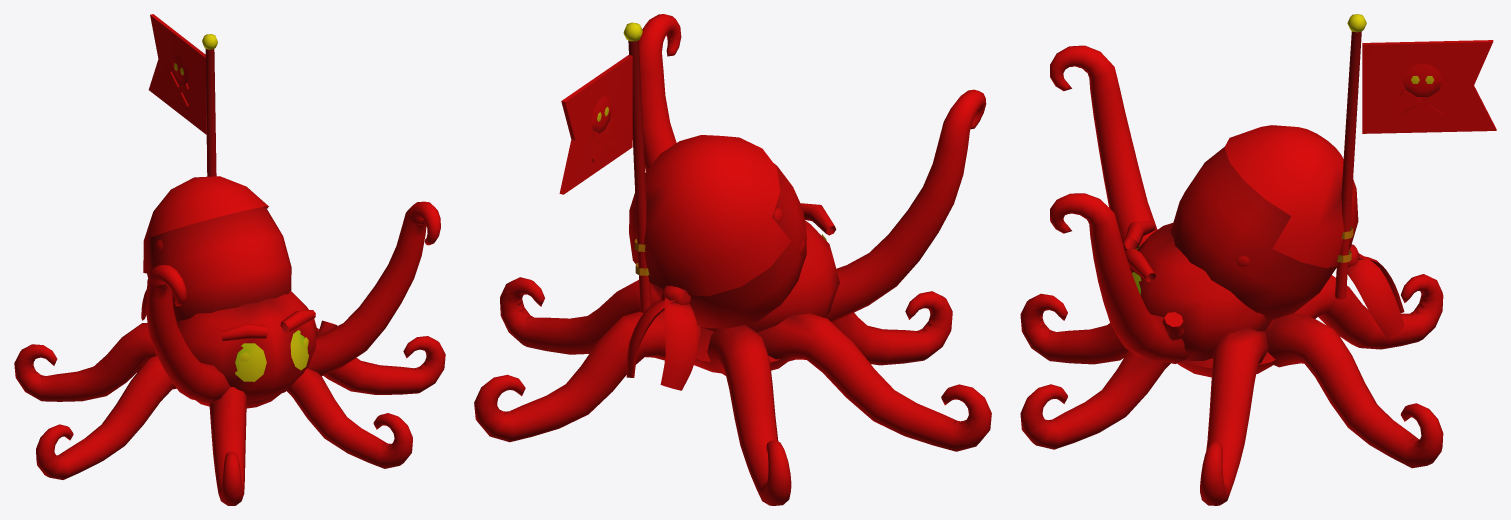
File: Kraken.glb
The picture shows the model from 3 angles, left to right: view 1: azimuth 30°, elevation 25°; view 2: azimuth 150°, elevation 25°; view 3: azimuth 270°, elevation 25°; orthographic projection. The views are drawn at different scales.
Parts seen in each view (by area): view 1: Kraken; view 2: Kraken; view 3: Kraken.
Boxes of the visible parts, x1=… form: Kraken: x1=14, y1=14, x2=445, y2=505; Kraken: x1=474, y1=14, x2=991, y2=505; Kraken: x1=1020, y1=14, x2=1496, y2=505.
Bounding box in the file's own units: 2.69 × 2.2 × 2.33.
